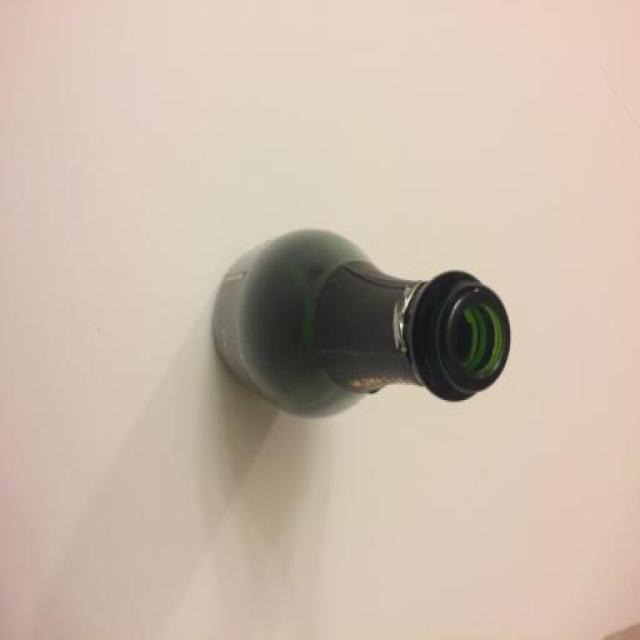glass: (205, 228, 512, 416)
